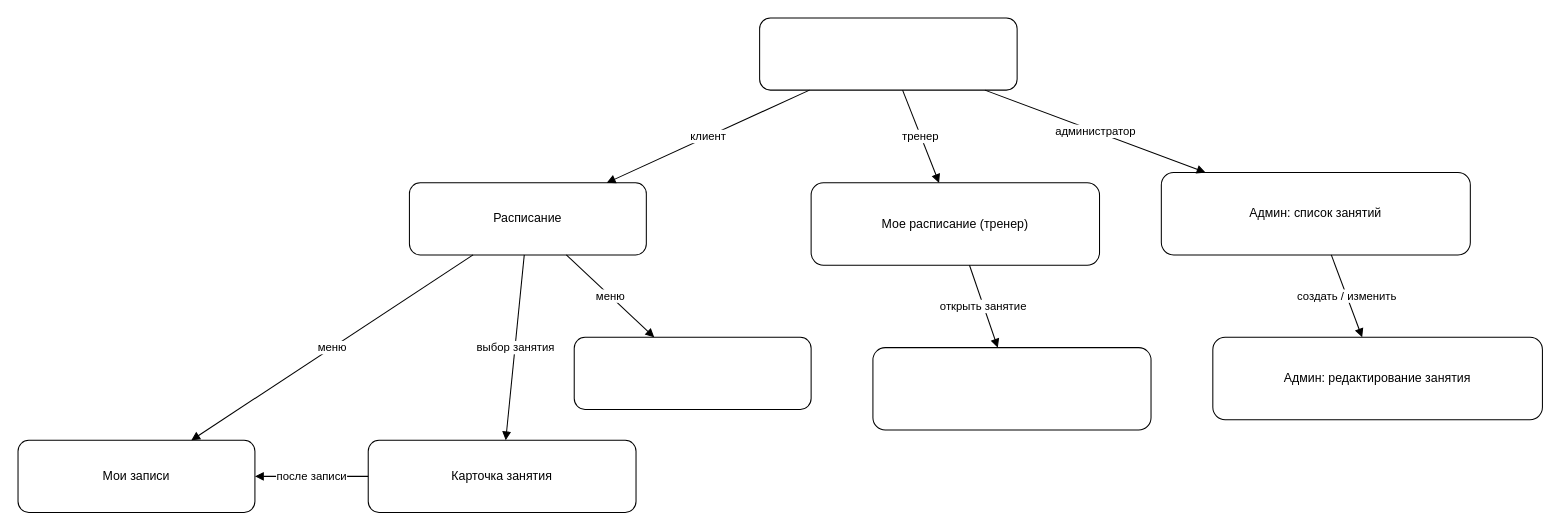
The diagram is 1560 pixels wide and 530 high, and some of its shapes have lost their labels. Here are the shapes that lost their labels. From the top down, the centre of each, then its label:
(888,53): Авторизация
(692,372): Абонемент
(1011,388): Участники занятия
